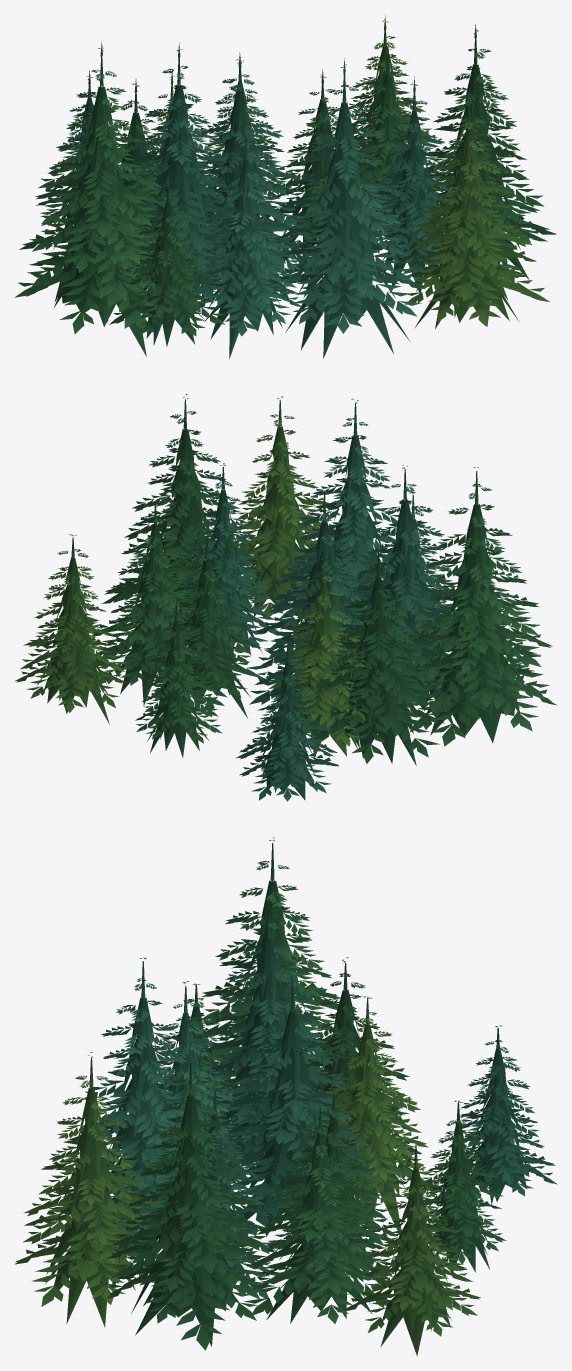
3 views of the same model, one above another, from view 1: azimuth 30°, elevation 25°; view 2: azimuth 150°, elevation 25°; view 3: azimuth 270°, elevation 25° (orthographic). The views are drawn at different scales.
Parts seen in each view (by area): view 1: pn_9; view 2: pn_9; view 3: pn_9.
Part boxes in pixels (x1,y1,x2,y2): pn_9: (14, 15, 556, 358); pn_9: (14, 394, 556, 801); pn_9: (14, 837, 557, 1356).
Size of the model in its own units: 29.74 by 17.83 by 26.18.
Materials: 1 (1 with a texture image).
